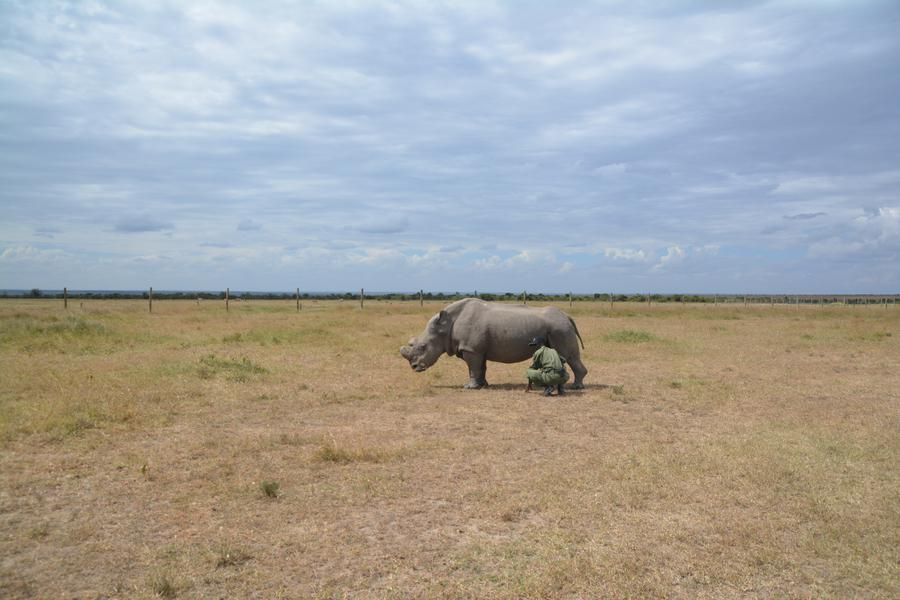rhino: (414, 297, 591, 384)
